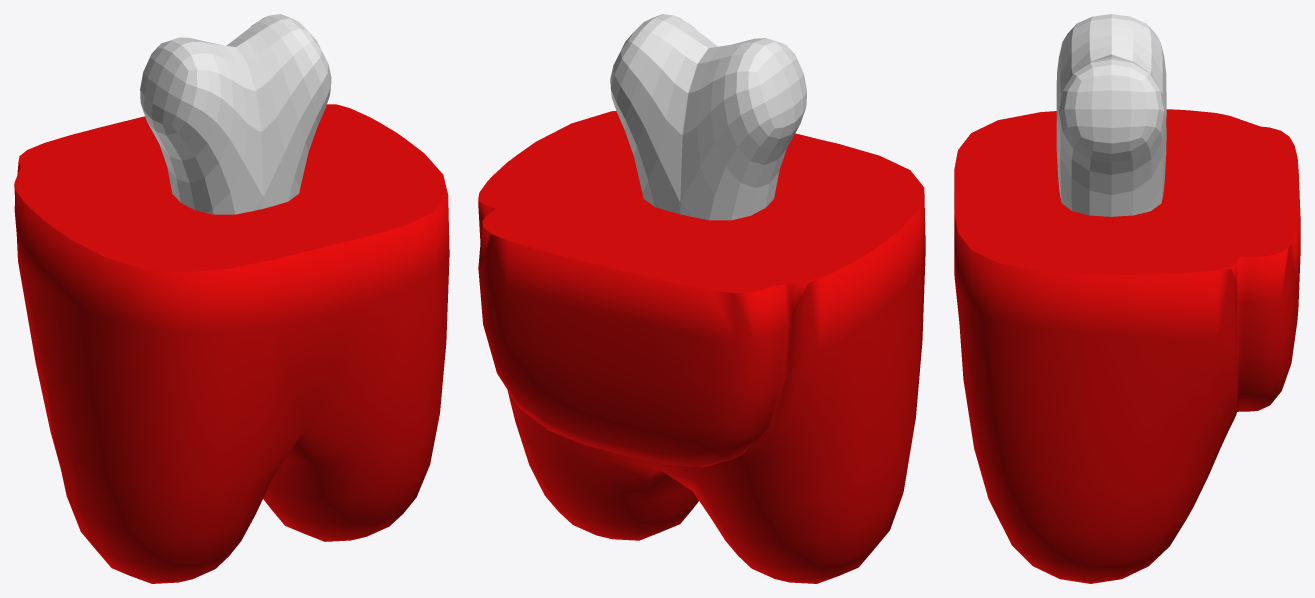
The model's file is Among Us (Dead).fbx.
The picture shows the model from 3 angles, left to right: view 1: azimuth 30°, elevation 25°; view 2: azimuth 150°, elevation 25°; view 3: azimuth 270°, elevation 25°; orthographic projection. The views are drawn at different scales.
Parts seen in each view (by area): view 1: Body, Bone; view 2: Body, Bone; view 3: Body, Bone.
Boxes of the visible parts, x1,y1,x2,y2 form: Body: (14,104,449,583); Bone: (140,14,331,214); Body: (478,111,925,583); Bone: (610,14,806,220); Body: (954,109,1300,583); Bone: (1056,14,1166,216).
Bounding box in the file's own units: 125 × 174 × 110.
